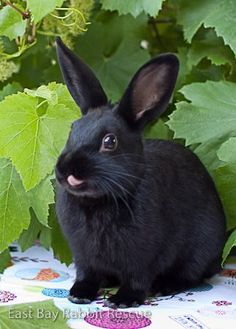bunny: (37, 30, 233, 309)
